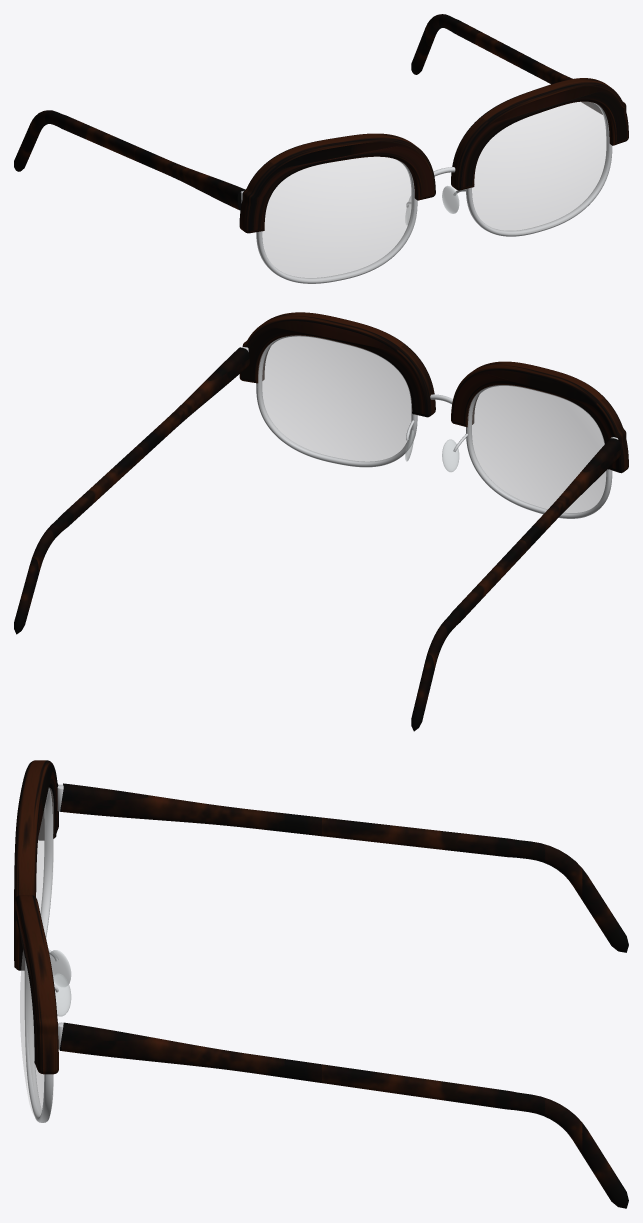
File: clark-m.glb
The picture shows the model from 3 angles, top to bottom: view 1: azimuth 30°, elevation 25°; view 2: azimuth 150°, elevation 25°; view 3: azimuth 270°, elevation 25°; orthographic projection. The views are drawn at different scales.
Parts seen in each view (by area): view 1: Front, Lens_R, Lens_L, Temple_R, Temple_L, NosePads; view 2: Lens_L, Front, Lens_R, Temple_L, Temple_R, NosePads; view 3: Temple_L, Temple_R, Front, Lens_L, Lens_R, NosePads.
Boxes of the visible parts, x1,y1,x2,y2 form: Front: [239, 78, 628, 283]; Lens_R: [262, 157, 412, 281]; Lens_L: [472, 102, 607, 234]; Temple_R: [14, 110, 245, 210]; Temple_L: [411, 14, 602, 114]; NosePads: [405, 186, 459, 224]; Lens_L: [258, 336, 411, 461]; Front: [239, 312, 628, 518]; Lens_R: [467, 386, 606, 513]; Temple_L: [14, 347, 249, 634]; Temple_R: [411, 438, 621, 731]; NosePads: [405, 430, 459, 472]; Temple_L: [59, 1022, 628, 1208]; Temple_R: [60, 783, 628, 952]; Front: [14, 760, 63, 1122]; Lens_L: [20, 951, 53, 1118]; Lens_R: [36, 787, 53, 929]; NosePads: [49, 950, 71, 1016].
Bounding box in the file's own units: 0.1424 × 0.0581 × 0.1417.
Materials: 5 (2 with a texture image).
